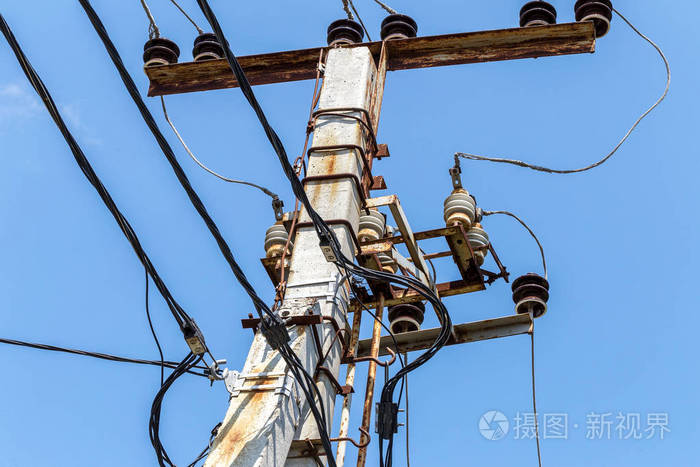insulator: (510, 273, 551, 315), (386, 298, 428, 335), (141, 33, 181, 64), (440, 193, 480, 224), (571, 1, 615, 29), (191, 29, 226, 63), (357, 206, 389, 241), (518, 1, 559, 28), (323, 19, 369, 42), (262, 222, 293, 255), (380, 12, 416, 40)
